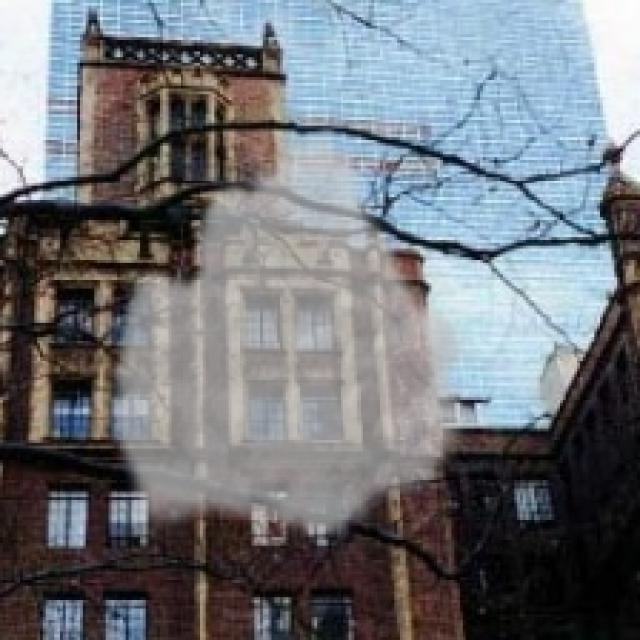smoke: (103, 123, 477, 543)
